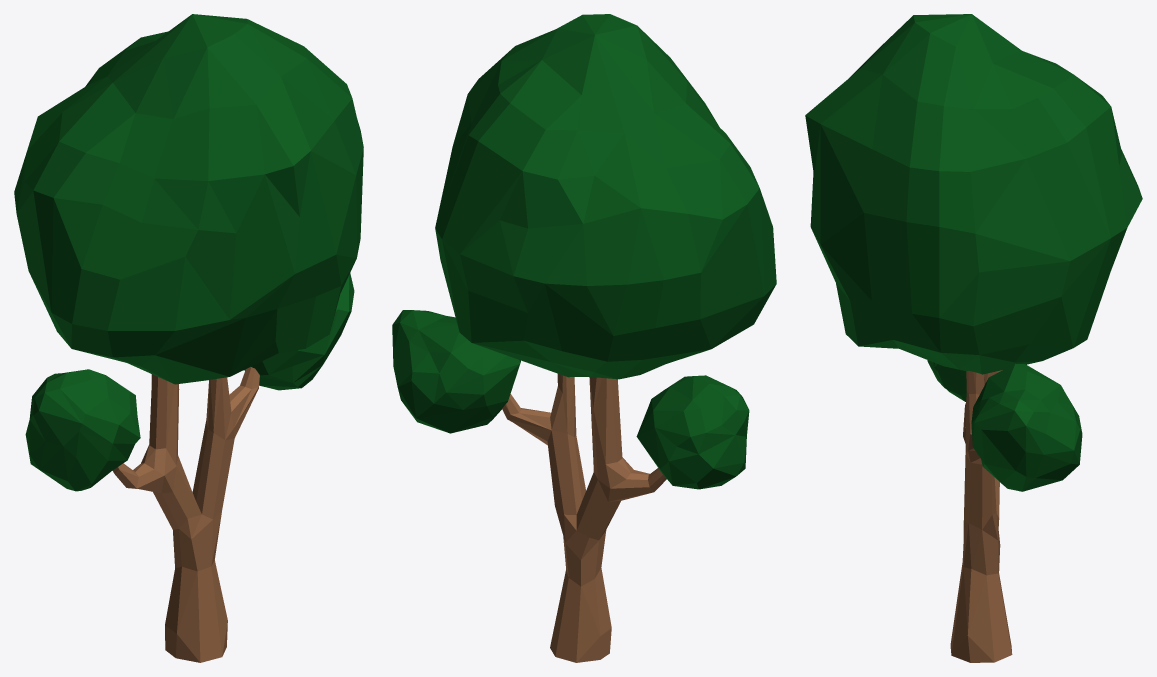
File: tree4.gltf
3 views of the same model, side by side, from view 1: azimuth 30°, elevation 25°; view 2: azimuth 150°, elevation 25°; view 3: azimuth 270°, elevation 25° (orthographic). The views are drawn at different scales.
Visible parts, largest first — view 1: Tree 29_80; view 2: Tree 29_80; view 3: Tree 29_80.
Part boxes in pixels (box(x1,y1,x2,y2)): Tree 29_80: box(14, 14, 363, 662); Tree 29_80: box(392, 14, 776, 662); Tree 29_80: box(805, 14, 1142, 662).
Bounding box in the file's own units: 1.04 × 1.86 × 0.8969.
